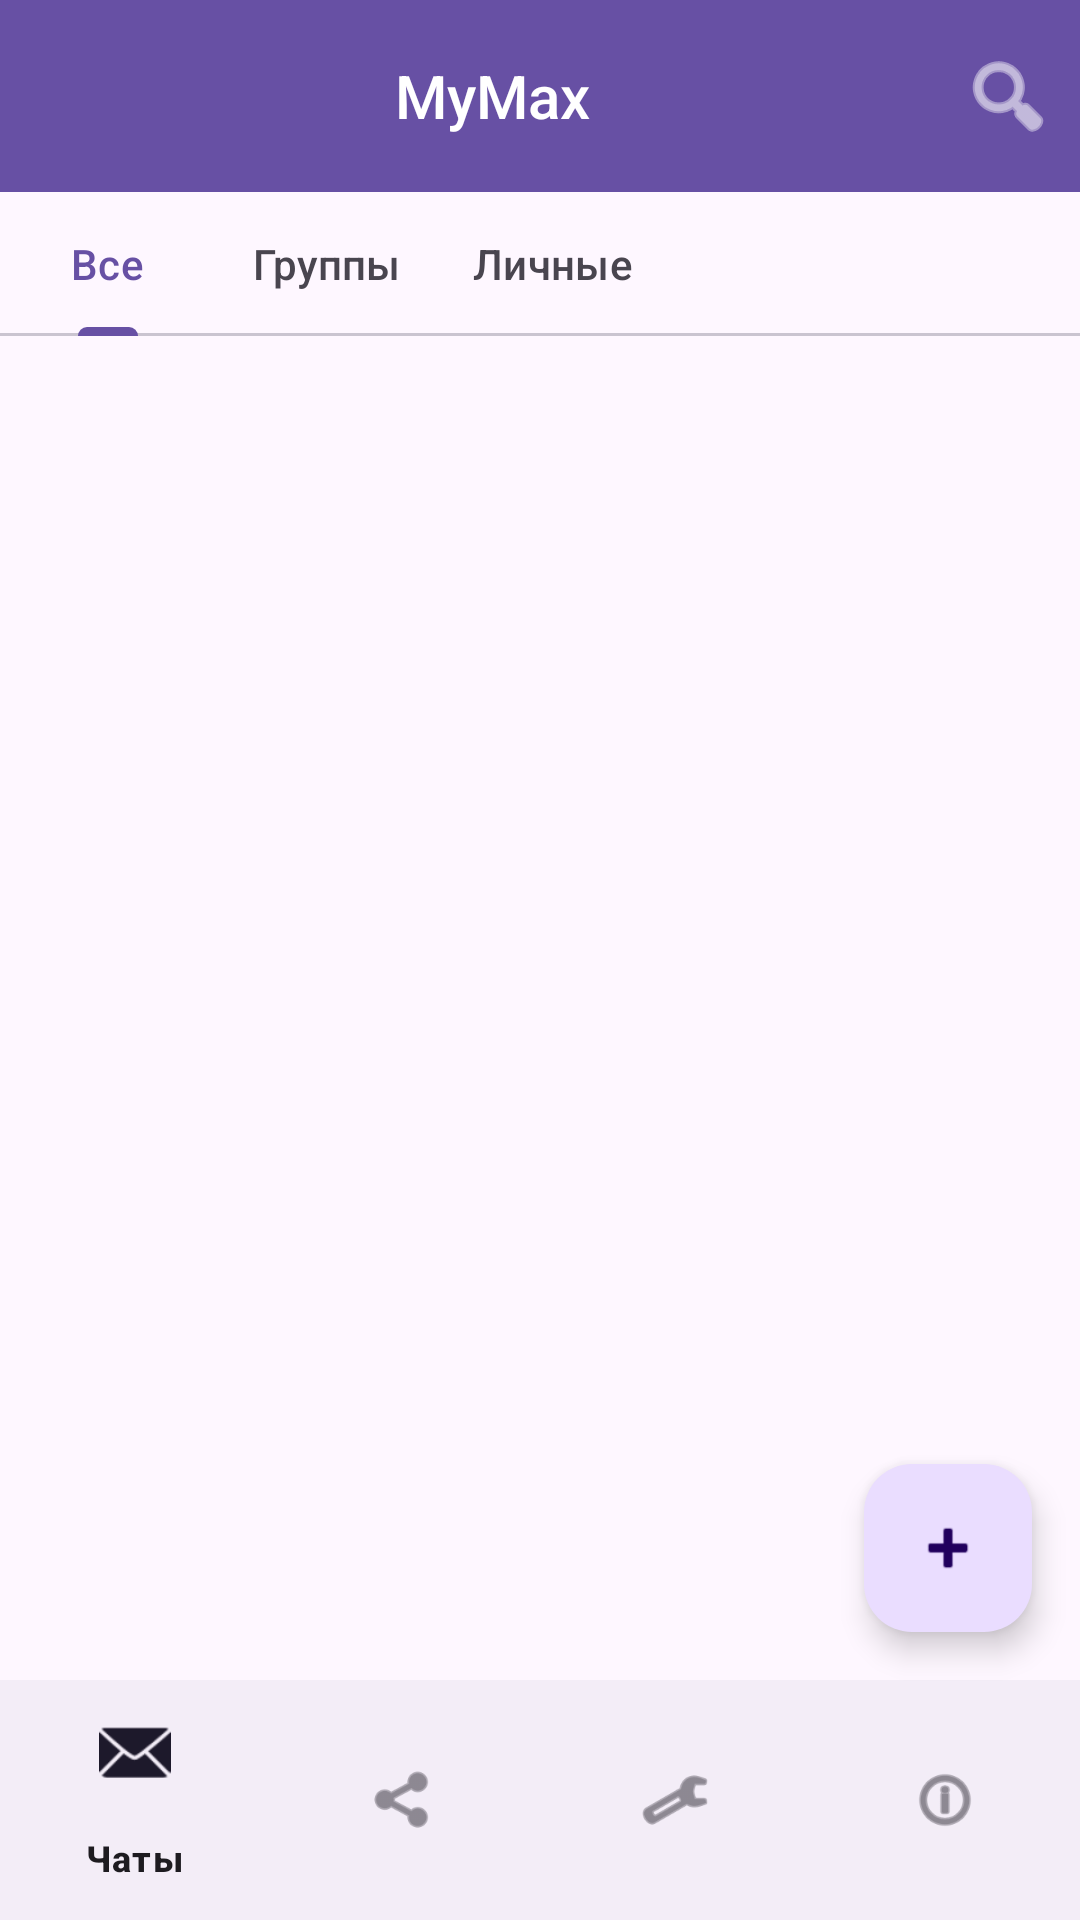

Where icons sit on this 1080x1920 app screen, as (x1, y1, x2, y2):
add: (864, 1464, 1032, 1632)
search: (973, 61, 1043, 132)
